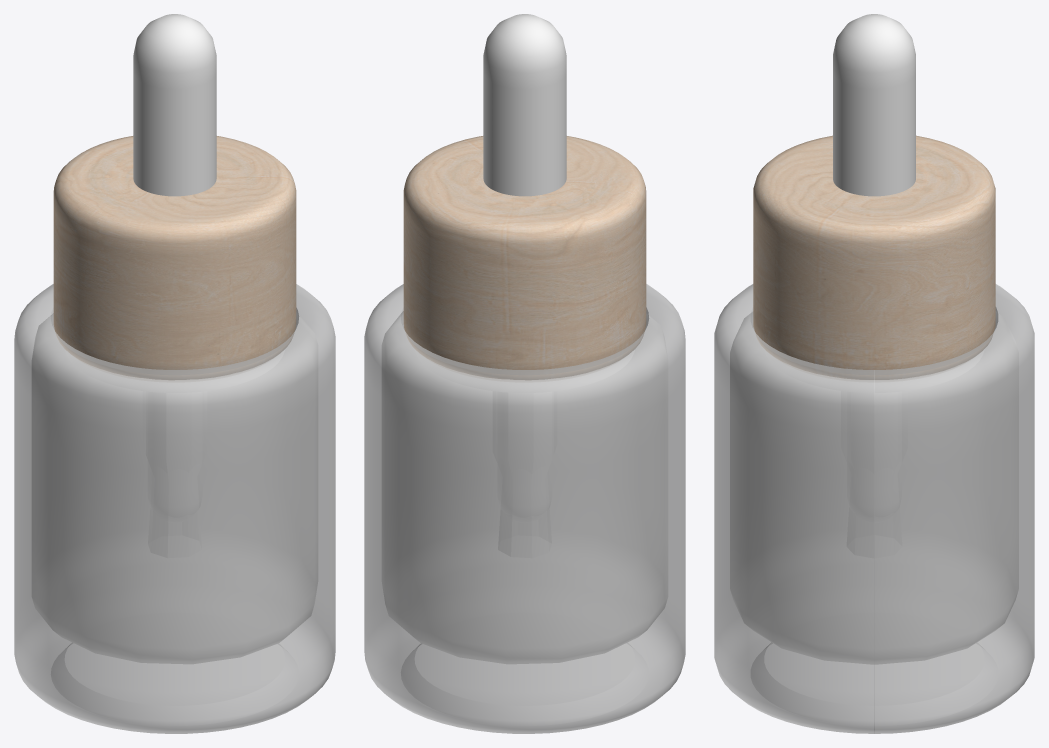
Rendered from product2.gltf.
3 views of the same model, side by side, from view 1: azimuth 30°, elevation 25°; view 2: azimuth 150°, elevation 25°; view 3: azimuth 270°, elevation 25° (orthographic).
Parts seen in each view (by area): view 1: product2-verre, product2-bois, product2-cream; view 2: product2-verre, product2-bois, product2-cream; view 3: product2-verre, product2-bois, product2-cream.
Boxes of the visible parts, x1=… form: product2-verre: x1=14, y1=284, x2=335, y2=733; product2-bois: x1=53, y1=136, x2=296, y2=380; product2-cream: x1=133, y1=14, x2=216, y2=196; product2-verre: x1=364, y1=284, x2=685, y2=733; product2-bois: x1=403, y1=136, x2=646, y2=380; product2-cream: x1=483, y1=14, x2=566, y2=196; product2-verre: x1=714, y1=284, x2=1034, y2=733; product2-bois: x1=753, y1=135, x2=995, y2=380; product2-cream: x1=833, y1=14, x2=915, y2=196.
Bounding box in the file's own units: 0.5319 × 1.2 × 0.5309.
Materials: 3 (1 with a texture image).
